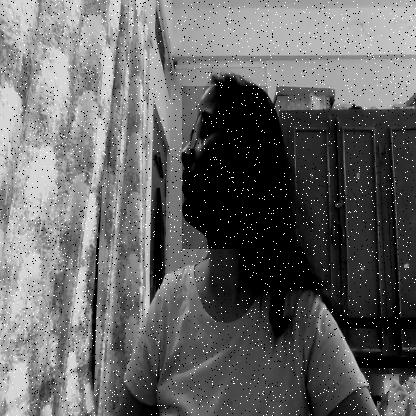Distracted: (182, 86, 268, 249)
